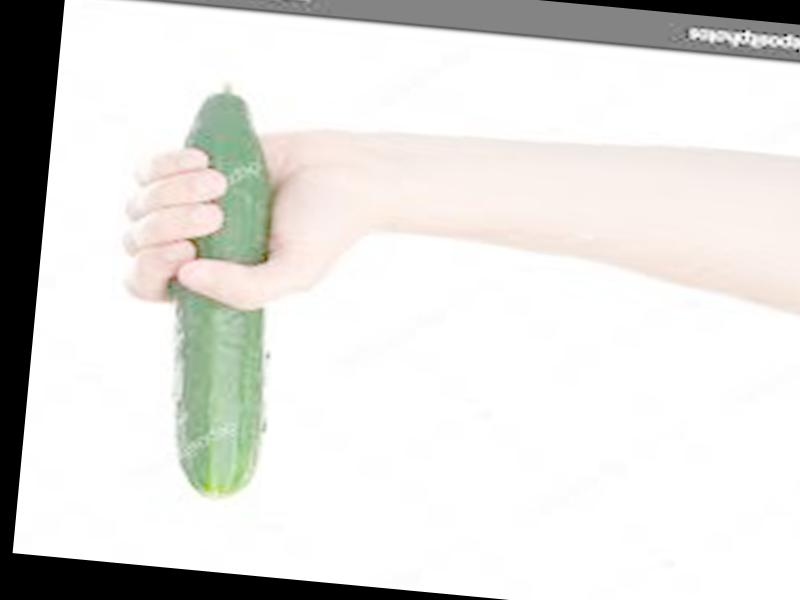Cucumber: (151, 81, 294, 501)
